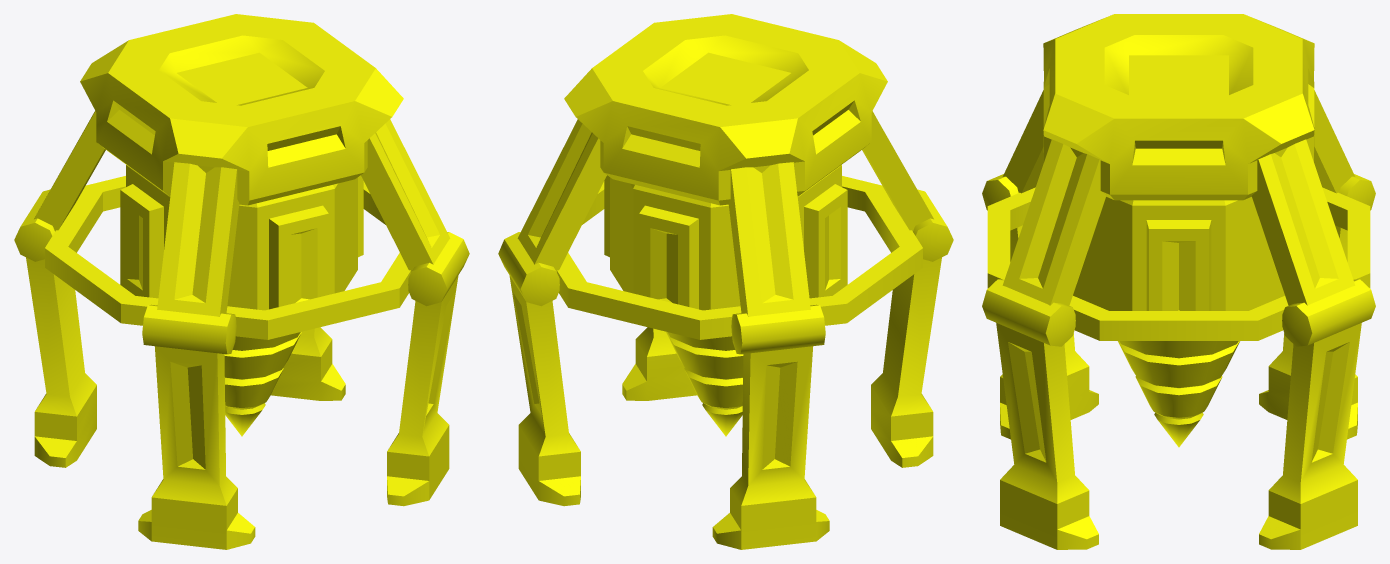
File: kaykit-drill-structure.glb
3 views of the same model, side by side, from view 1: azimuth 30°, elevation 25°; view 2: azimuth 150°, elevation 25°; view 3: azimuth 270°, elevation 25° (orthographic). The views are drawn at different scales.
Parts seen in each view (by area): view 1: drill_structure; view 2: drill_structure; view 3: drill_structure.
Boxes of the visible parts, left/top/right/bottom form: drill_structure: left=14, top=14, right=469, bottom=549; drill_structure: left=498, top=14, right=953, bottom=549; drill_structure: left=982, top=14, right=1375, bottom=549.
Bounding box in the file's own units: 1.75 × 2 × 1.75.
